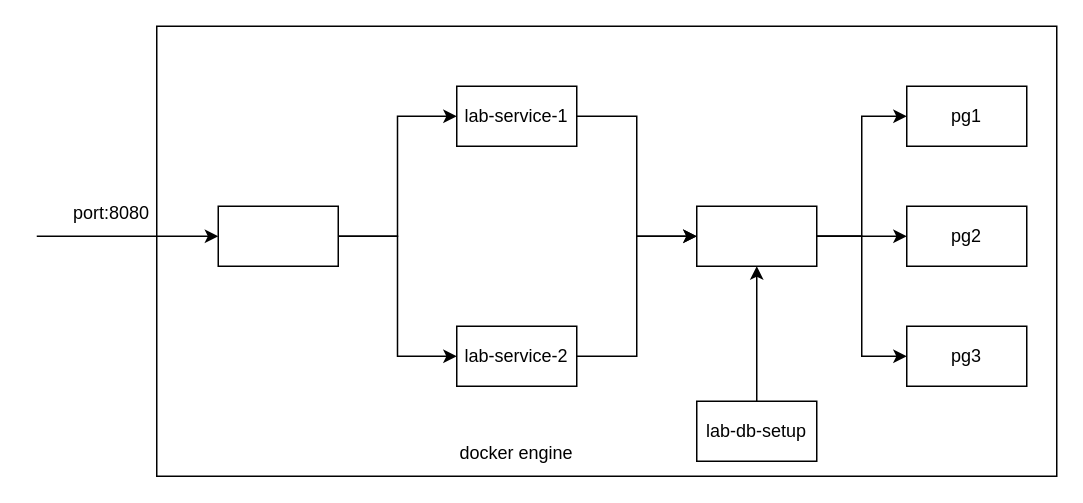
The diagram is 1083 pixels wide and 503 high, and some of its shapes have lost their labels. Here are the shapes that lost their labels. From the top down, the box of each, then its label:
(217, 205, 338, 266): nginx
(695, 205, 817, 266): pgcat
